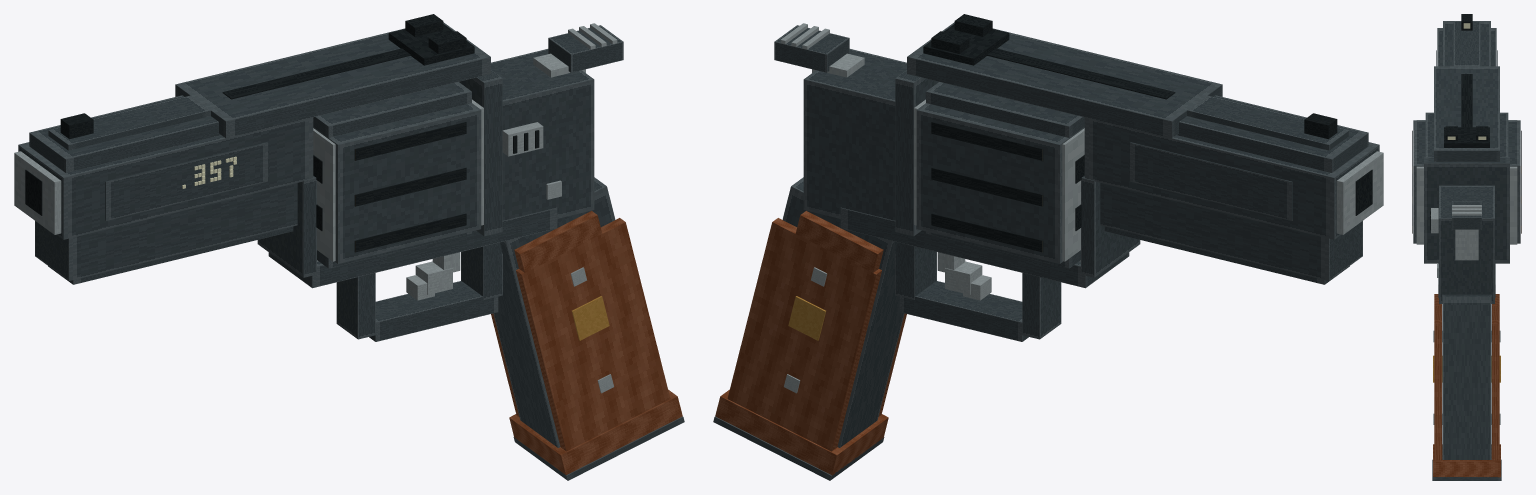
Rendered from Blackthorn357.glb.
3 renders of one model, left to right at view 1: azimuth 30°, elevation 25°; view 2: azimuth 150°, elevation 25°; view 3: azimuth 270°, elevation 25°, orthographic. The views are drawn at different scales.
Visible parts, largest first — view 1: Walnut grip panel -1, Cylinder main body, Top strap, Rear receiver, Full underlug, Barrel main, Grip steel tang, Barrel side flat -1, Barrel upper shoulder, Lower frame rail, Squared trigger guard floor, Broad grip butt (+21 smaller); view 2: Walnut grip panel 1, Cylinder main body, Top strap, Rear receiver, Full underlug, Barrel main, Grip steel tang, Barrel side flat 1, Barrel upper shoulder, Lower frame rail, Squared trigger guard floor, Broad grip butt (+20 smaller); view 3: Grip steel tang, Top strap, Rear receiver, Rear recoil shield, Cylinder main body, Cylinder rear band, Broad grip butt, Raised sight rib, Walnut grip panel 1, Walnut grip panel -1, Barrel upper shoulder, Cylinder upper step (+12 smaller).
Boxes of the visible parts, x1,y1,x2,y2 form: Walnut grip panel -1: [516, 218, 670, 451]; Cylinder main body: [313, 103, 481, 263]; Top strap: [175, 22, 490, 138]; Rear receiver: [491, 49, 594, 220]; Full underlug: [35, 183, 297, 280]; Barrel main: [18, 117, 313, 239]; Grip steel tang: [493, 177, 615, 447]; Barrel side flat -1: [105, 142, 267, 220]; Barrel upper shoulder: [29, 95, 220, 172]; Lower frame rail: [268, 207, 557, 288]; Squared trigger guard floor: [369, 281, 498, 341]; Broad grip butt: [509, 389, 682, 474]; Walnut grip panel 1: [727, 218, 881, 451]; Cylinder main body: [916, 103, 1084, 263]; Top strap: [907, 22, 1222, 138]; Rear receiver: [803, 49, 906, 220]; Full underlug: [1100, 183, 1362, 280]; Barrel main: [1084, 117, 1379, 239]; Grip steel tang: [782, 177, 904, 447]; Barrel side flat 1: [1130, 142, 1292, 220]; Barrel upper shoulder: [1177, 95, 1368, 172]; Lower frame rail: [840, 207, 1129, 288]; Squared trigger guard floor: [899, 281, 1028, 341]; Broad grip butt: [715, 389, 888, 475]; Grip steel tang: [1442, 294, 1491, 459]; Top strap: [1434, 66, 1499, 161]; Rear receiver: [1439, 185, 1494, 303]; Rear recoil shield: [1424, 157, 1509, 263]; Cylinder main body: [1413, 120, 1520, 243]; Cylinder rear band: [1416, 166, 1517, 244]; Broad grip butt: [1433, 444, 1500, 477]; Raised sight rib: [1453, 21, 1480, 66]; Walnut grip panel 1: [1492, 320, 1499, 460]; Walnut grip panel -1: [1434, 320, 1441, 460]; Barrel upper shoulder: [1443, 21, 1490, 66]; Cylinder upper step: [1425, 112, 1508, 157].
Bounding box in the file's own units: 0.2854 × 0.1999 × 0.066.
Materials: 1 (1 with a texture image).
